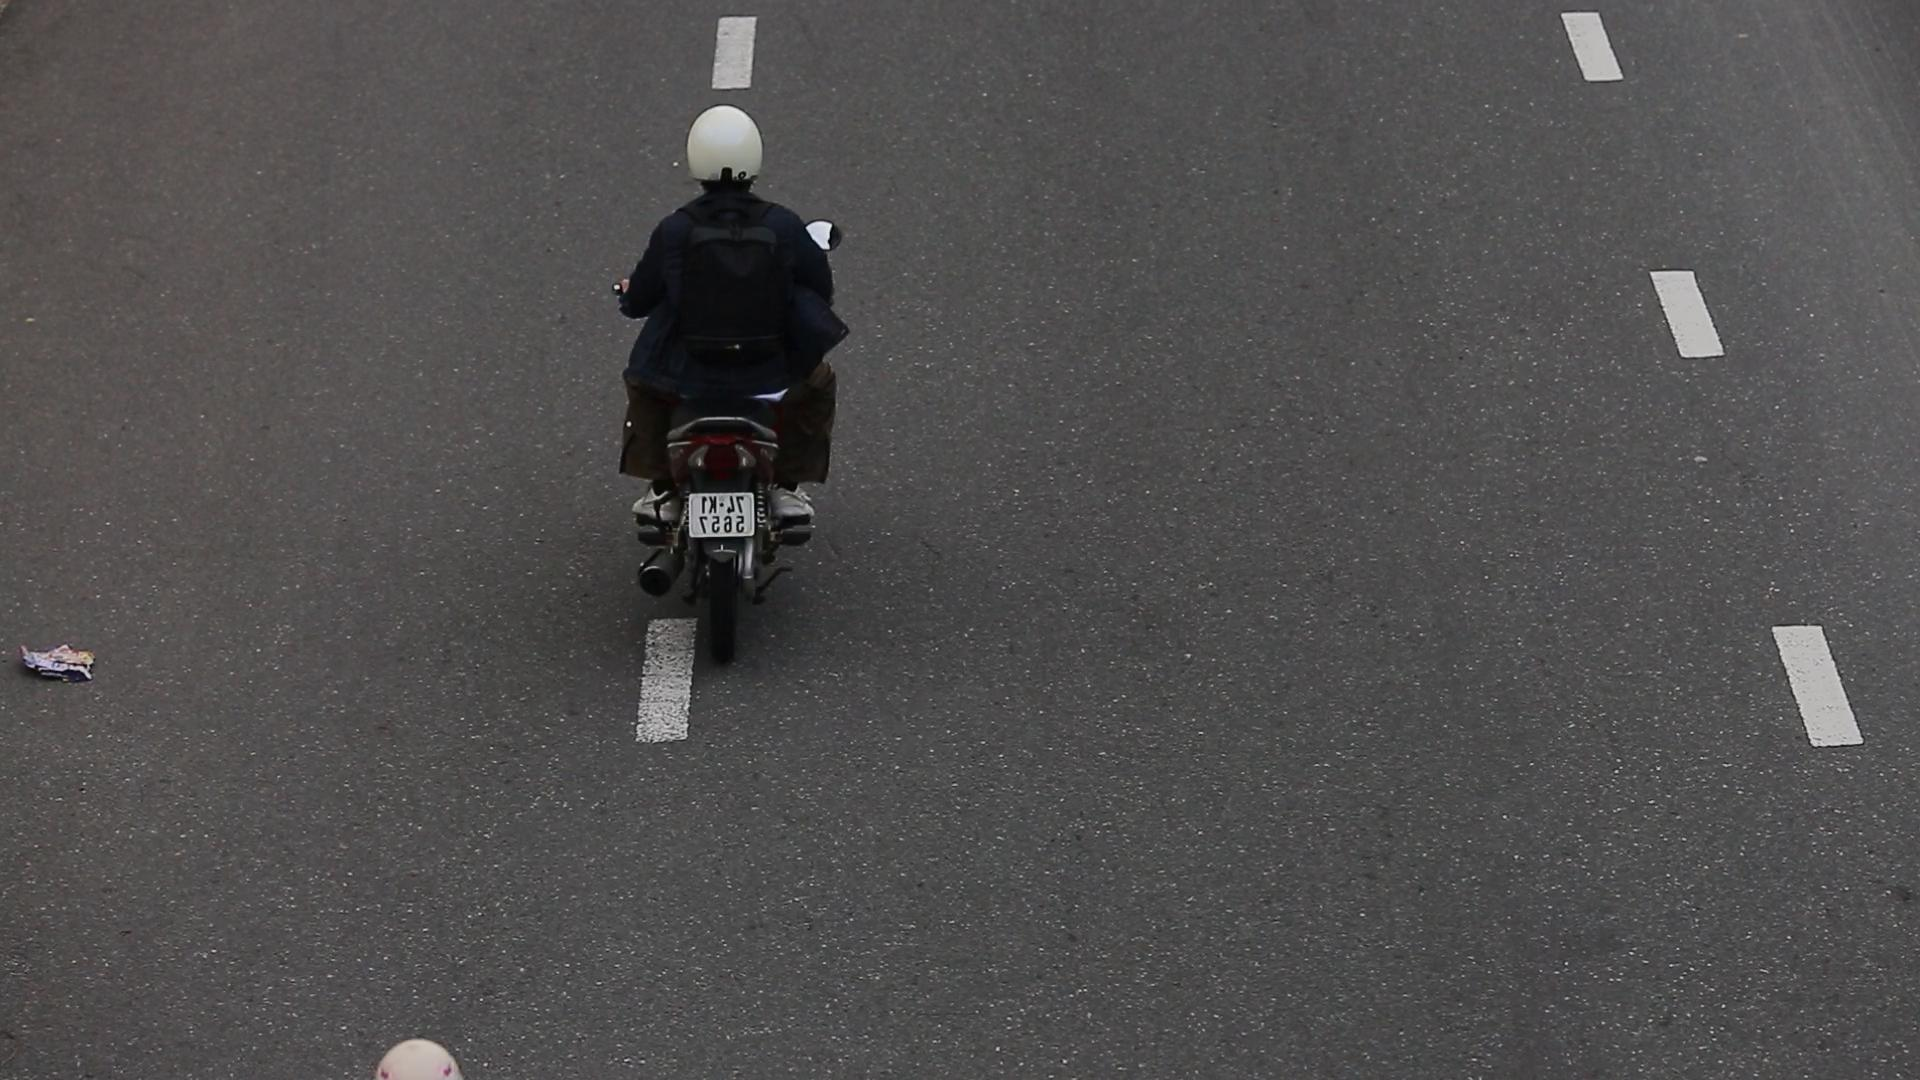motobike: (583, 87, 860, 675)
